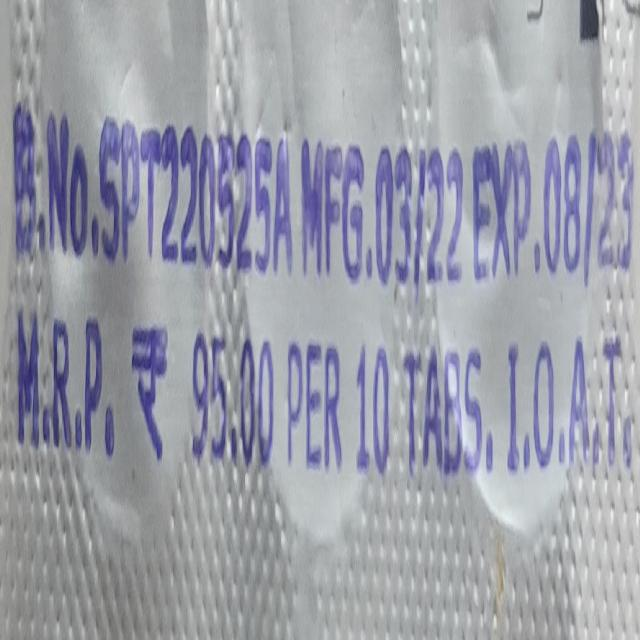sentence: (18, 310, 632, 520), (12, 105, 632, 286)
